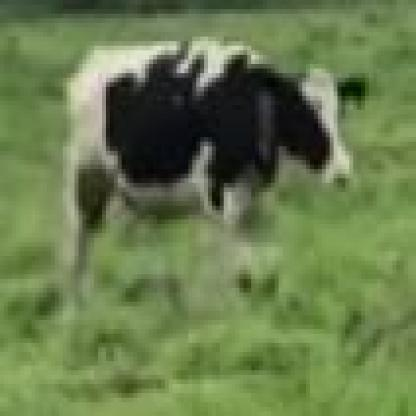cow: (61, 39, 367, 313)
